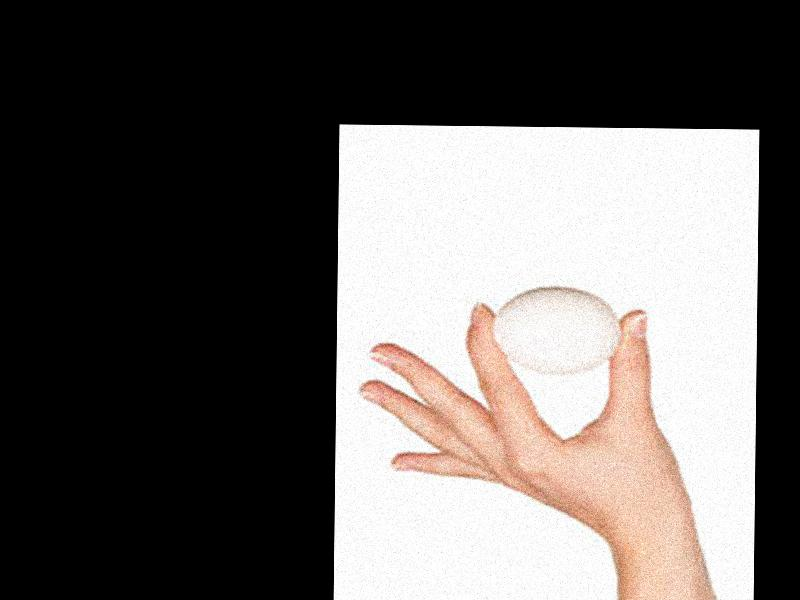Eggs: (491, 283, 621, 376)
